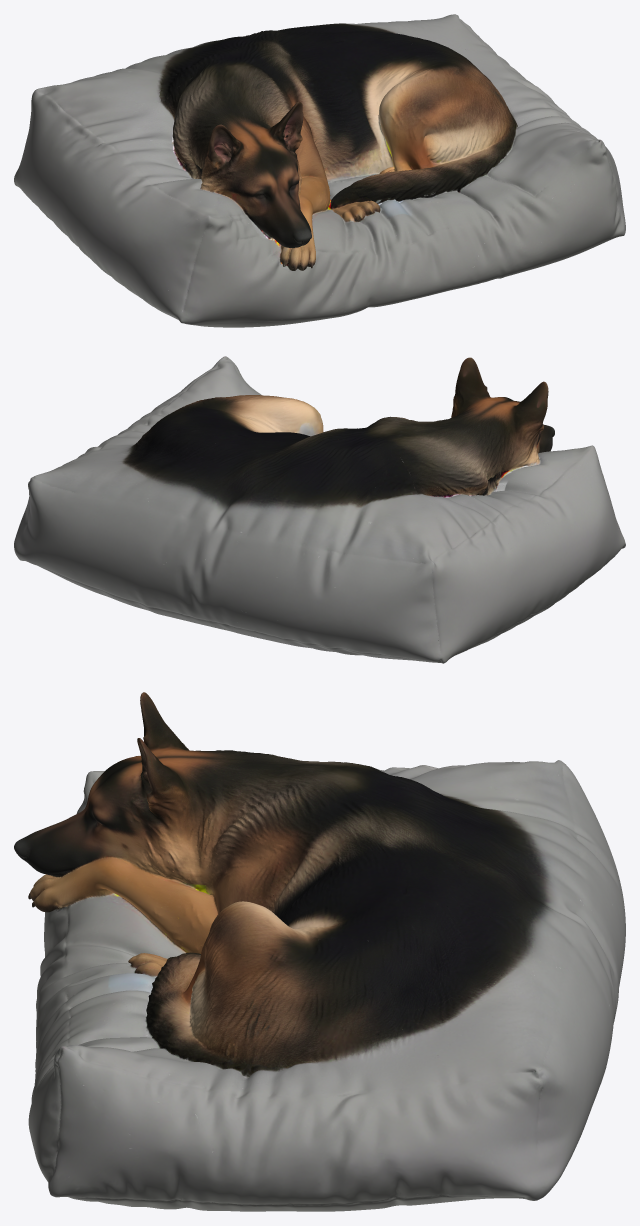
File: berger-allemand-couche.glb
3 renders of one model, top to bottom at view 1: azimuth 30°, elevation 25°; view 2: azimuth 150°, elevation 25°; view 3: azimuth 270°, elevation 25°, orthographic. The views are drawn at different scales.
Size of the model in its own units: 1.9 by 0.7403 by 1.48.
1 material, 1 textured.
